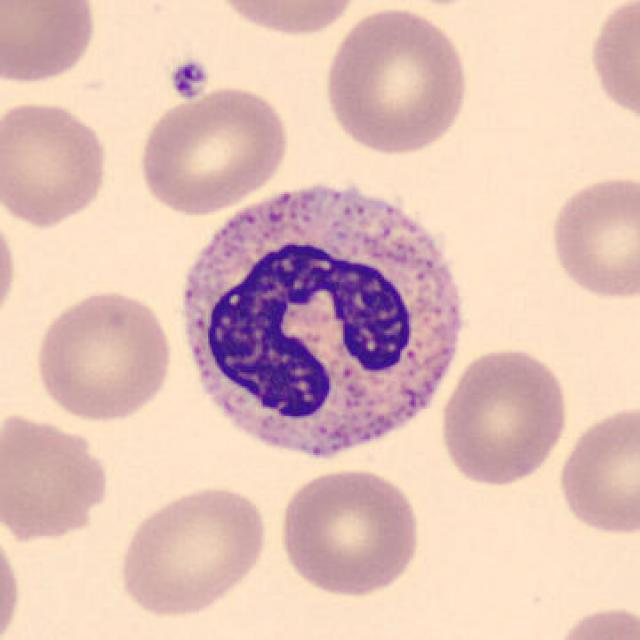Neutrophil: (167, 168, 477, 483)
Platelets: (166, 55, 212, 102)
RBC: (320, 3, 473, 158), (114, 480, 272, 620), (135, 83, 292, 217), (275, 464, 425, 600), (30, 286, 176, 425), (436, 344, 572, 488), (0, 406, 114, 546), (0, 95, 112, 229), (544, 171, 638, 303), (553, 400, 638, 540), (0, 0, 99, 86), (584, 0, 638, 130), (206, 0, 366, 39), (548, 601, 638, 640), (0, 516, 25, 640), (0, 200, 21, 331)
